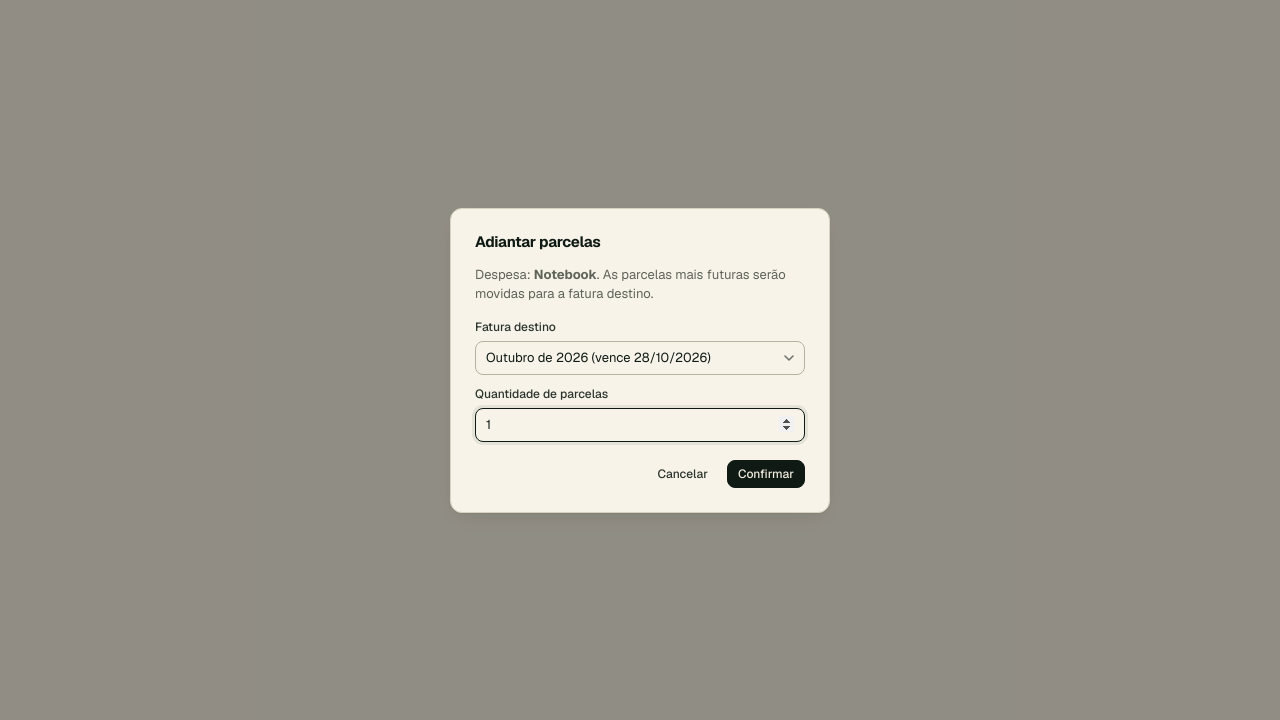
AdiantarParcelasModal › mostra o erro do adiantamento sem o prefixo do Electron
Check: the dropdown labelled "Fatura destino" is enabled, box [475,340,805,374]
Click the button "Confirmar": (766, 474) [727,460,805,488]
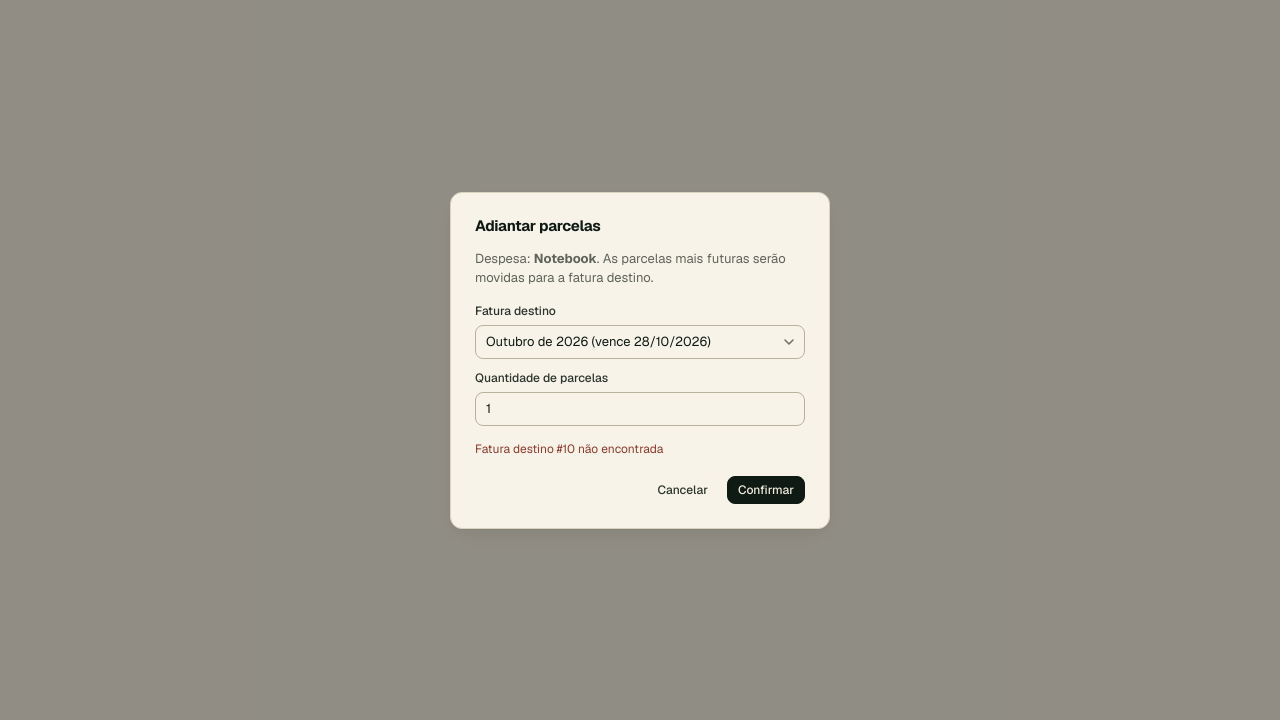
Check: the text "Fatura destino #10 não encontrada" is shown, box [475,440,663,456]
